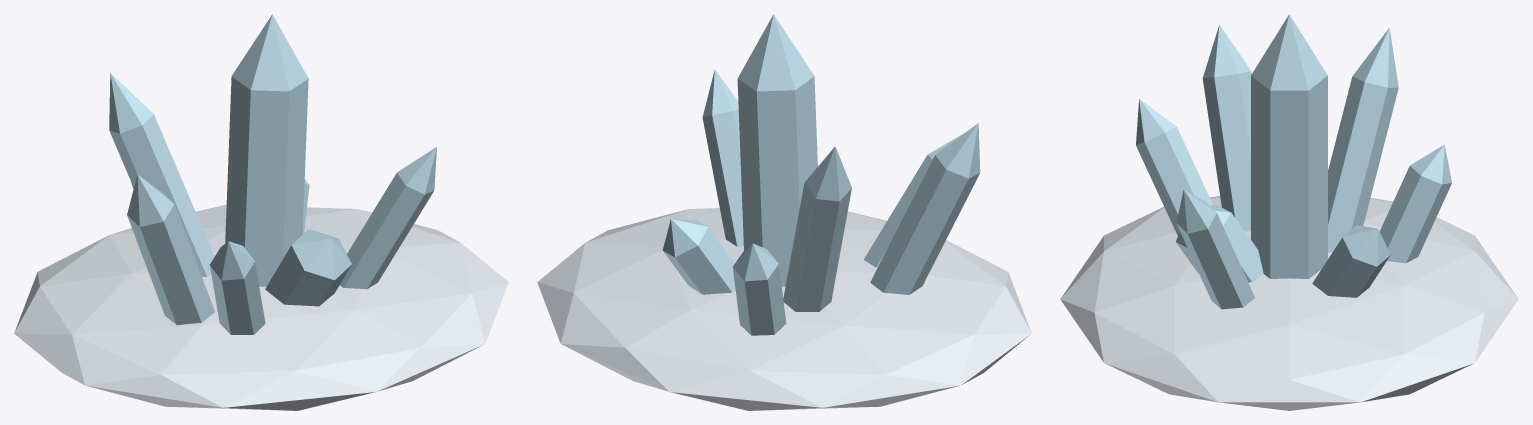
Rendered from runtime.glb.
3 renders of one model, left to right at view 1: azimuth 30°, elevation 25°; view 2: azimuth 150°, elevation 25°; view 3: azimuth 270°, elevation 25°, orthographic.
Visible parts, largest first — view 1: frozen_crystal_snow_noshadow_nocol, frozen_crystal_ice_nocol; view 2: frozen_crystal_snow_noshadow_nocol, frozen_crystal_ice_nocol; view 3: frozen_crystal_snow_noshadow_nocol, frozen_crystal_ice_nocol.
Boxes of the visible parts, bbox=[...] form: frozen_crystal_snow_noshadow_nocol: bbox=[14, 204, 508, 410]; frozen_crystal_ice_nocol: bbox=[109, 14, 436, 334]; frozen_crystal_snow_noshadow_nocol: bbox=[537, 208, 1031, 410]; frozen_crystal_ice_nocol: bbox=[662, 14, 980, 335]; frozen_crystal_snow_noshadow_nocol: bbox=[1060, 196, 1518, 410]; frozen_crystal_ice_nocol: bbox=[1136, 14, 1451, 309].
Size of the model in its own units: 3.84 by 2.84 by 3.6.
